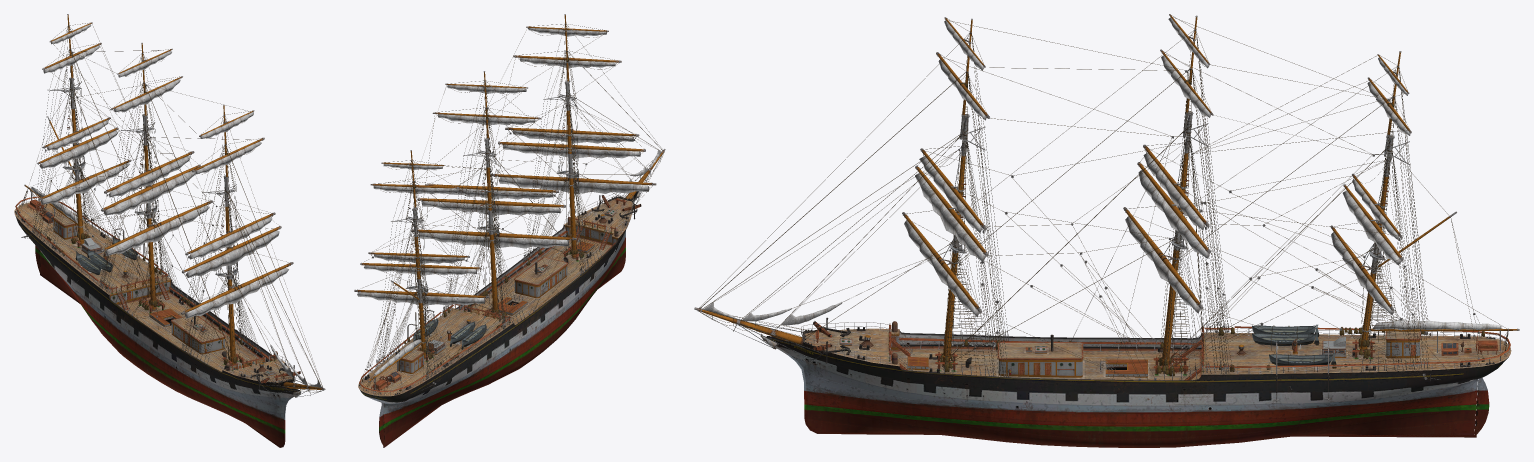
Rendered from SailingBarque.fbx.
3 views of the same model, side by side, from view 1: azimuth 30°, elevation 25°; view 2: azimuth 150°, elevation 25°; view 3: azimuth 270°, elevation 25° (orthographic). The views are drawn at different scales.
Visible parts, largest first — view 1: LSS039Shape; view 2: LSS039Shape; view 3: LSS039Shape.
Part boxes in pixels (<box>): LSS039Shape: <box>14,14,325,447</box>; LSS039Shape: <box>354,14,665,447</box>; LSS039Shape: <box>694,14,1519,447</box>.
Bounding box in the file's own units: 0.6472 × 1.36 × 2.41.
